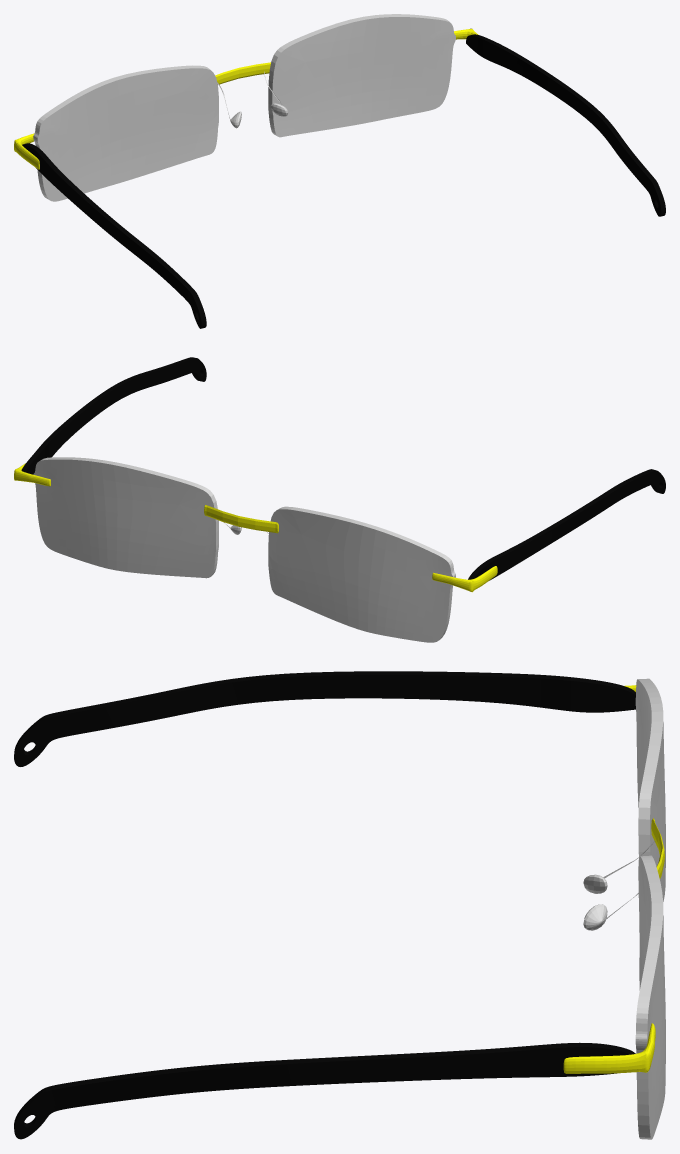
Rendered from norimgoldnblack.glb.
3 views of the same model, one above another, from view 1: azimuth 30°, elevation 25°; view 2: azimuth 150°, elevation 25°; view 3: azimuth 270°, elevation 25° (orthographic). The views are drawn at different scales.
Visible parts, largest first — view 1: glasstransparent, handleblack, cornergold, Plane; view 2: glasstransparent, handleblack, cornergold, Plane; view 3: handleblack, glasstransparent, cornergold, cushiontranstarent.
Part boxes in pixels (x1=…): glasstransparent: x1=33, y1=14, x2=455, y2=201; handleblack: x1=22, y1=34, x2=665, y2=328; cornergold: x1=14, y1=28, x2=478, y2=169; Plane: x1=215, y1=62, x2=270, y2=84; glasstransparent: x1=33, y1=457, x2=455, y2=642; handleblack: x1=21, y1=357, x2=665, y2=580; cornergold: x1=14, y1=463, x2=497, y2=592; Plane: x1=204, y1=505, x2=278, y2=533; handleblack: x1=14, y1=671, x2=635, y2=1139; glasstransparent: x1=635, y1=678, x2=665, y2=1139; cornergold: x1=563, y1=685, x2=655, y2=1073; cushiontranstarent: x1=583, y1=840, x2=655, y2=930.
Size of the model in its own units: 3.76 by 0.7834 by 2.65.
